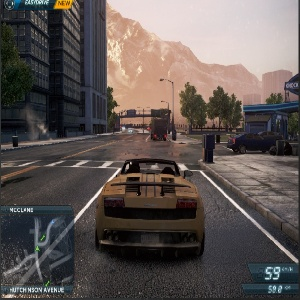building: (6, 1, 108, 132), (240, 76, 300, 131)
garbage: (270, 141, 297, 158), (11, 134, 19, 148)
mailbox: (199, 130, 218, 165)
tree: (1, 31, 33, 141), (176, 86, 205, 135), (208, 83, 236, 128)
vehicle: (221, 128, 269, 155), (254, 129, 287, 144), (149, 117, 168, 142), (122, 126, 128, 131), (127, 129, 133, 134)
